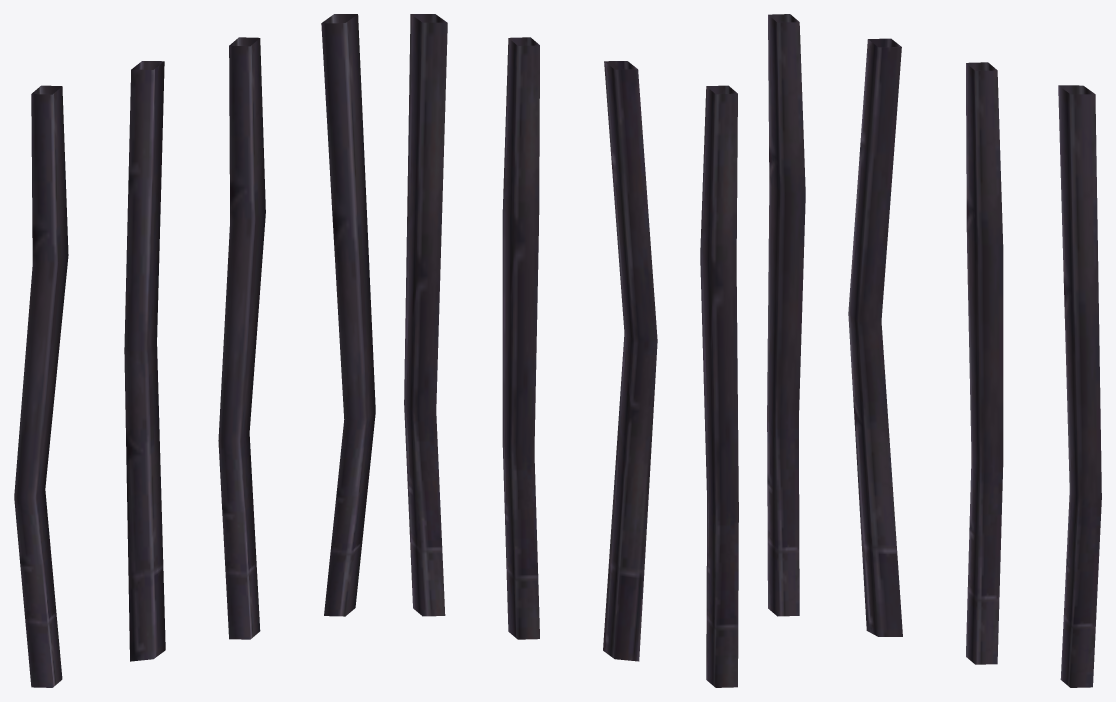
File: lava_bars_01.fbx
The picture shows the model from 3 angles, left to right: view 1: azimuth 30°, elevation 25°; view 2: azimuth 150°, elevation 25°; view 3: azimuth 330°, elevation 25°; orthographic projection.
Visible parts, largest first — view 1: lava_floorgrate_01_shadows; view 2: lava_floorgrate_01_shadows; view 3: lava_floorgrate_01_shadows.
Boxes of the visible parts, left/top/right/bottom form: lava_floorgrate_01_shadows: left=14, top=14, right=375, bottom=687; lava_floorgrate_01_shadows: left=404, top=14, right=738, bottom=687; lava_floorgrate_01_shadows: left=767, top=14, right=1101, bottom=687.
Size of the model in its own units: 3.39 by 5.51 by 0.4481.
